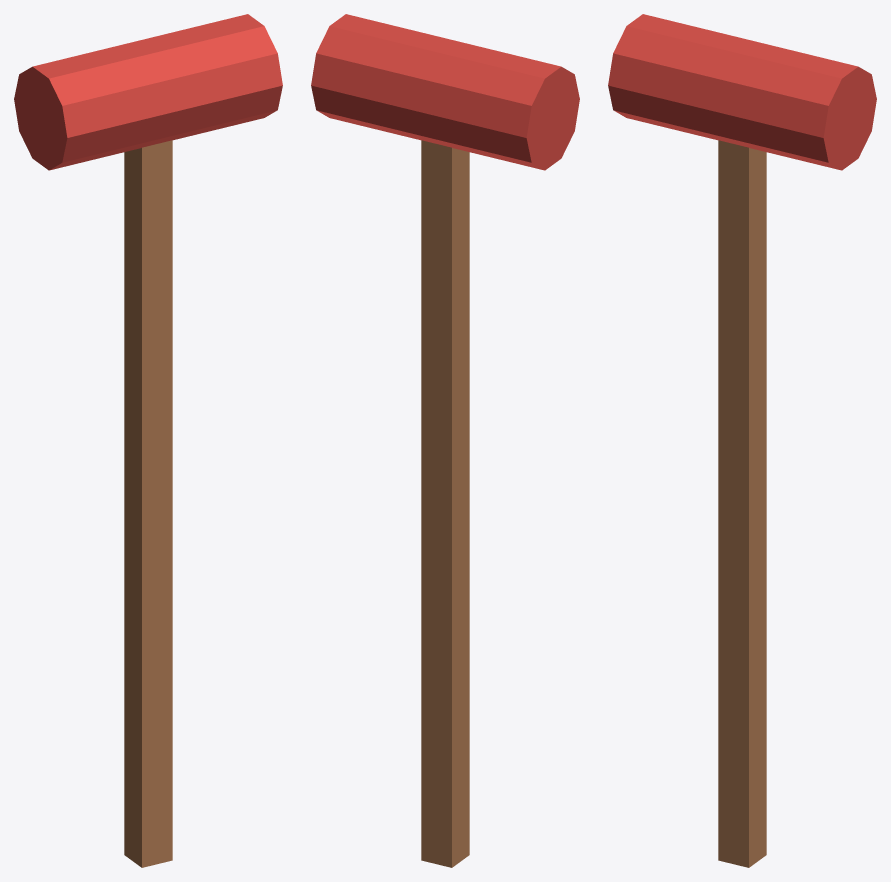
Rendered from BikePolo_Mallet.fbx.
The picture shows the model from 3 angles, left to right: view 1: azimuth 30°, elevation 25°; view 2: azimuth 150°, elevation 25°; view 3: azimuth 330°, elevation 25°; orthographic projection.
Visible parts, largest first — view 1: Mallet; view 2: Mallet; view 3: Mallet.
Part boxes in pixels (box(x1,y1,x2,y2)): Mallet: box(14, 14, 282, 867); Mallet: box(311, 14, 579, 867); Mallet: box(608, 14, 876, 867).
Bounding box in the file's own units: 0.28 × 1.01 × 0.12.
